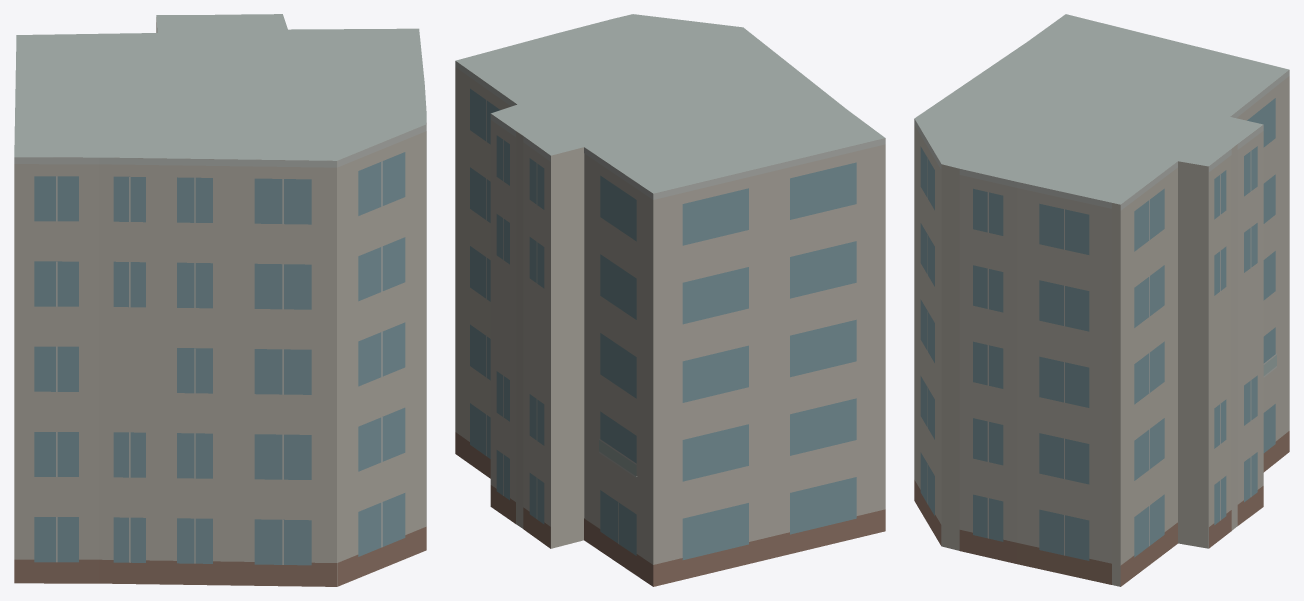
Rendered from survey-upis-32968835.glb.
The picture shows the model from 3 angles, left to right: view 1: azimuth 30°, elevation 25°; view 2: azimuth 150°, elevation 25°; view 3: azimuth 270°, elevation 25°; orthographic projection. The views are drawn at different scales.
Parts seen in each view (by area): view 1: survey-upis-32968835.tmp; view 2: survey-upis-32968835.tmp; view 3: survey-upis-32968835.tmp.
Boxes of the visible parts, bbox=[...] form: survey-upis-32968835.tmp: bbox=[14, 14, 426, 586]; survey-upis-32968835.tmp: bbox=[455, 14, 885, 586]; survey-upis-32968835.tmp: bbox=[914, 14, 1289, 586].
Size of the model in its own units: 16.32 by 15.25 by 13.58.
